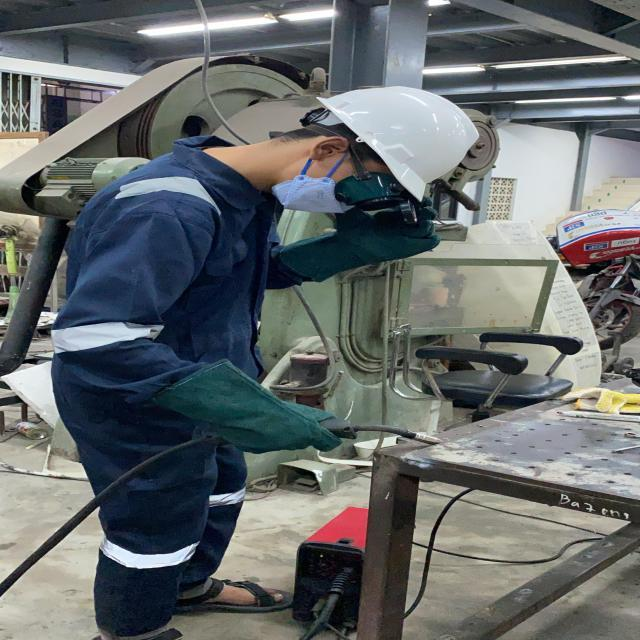glasses: (324, 166, 426, 232)
